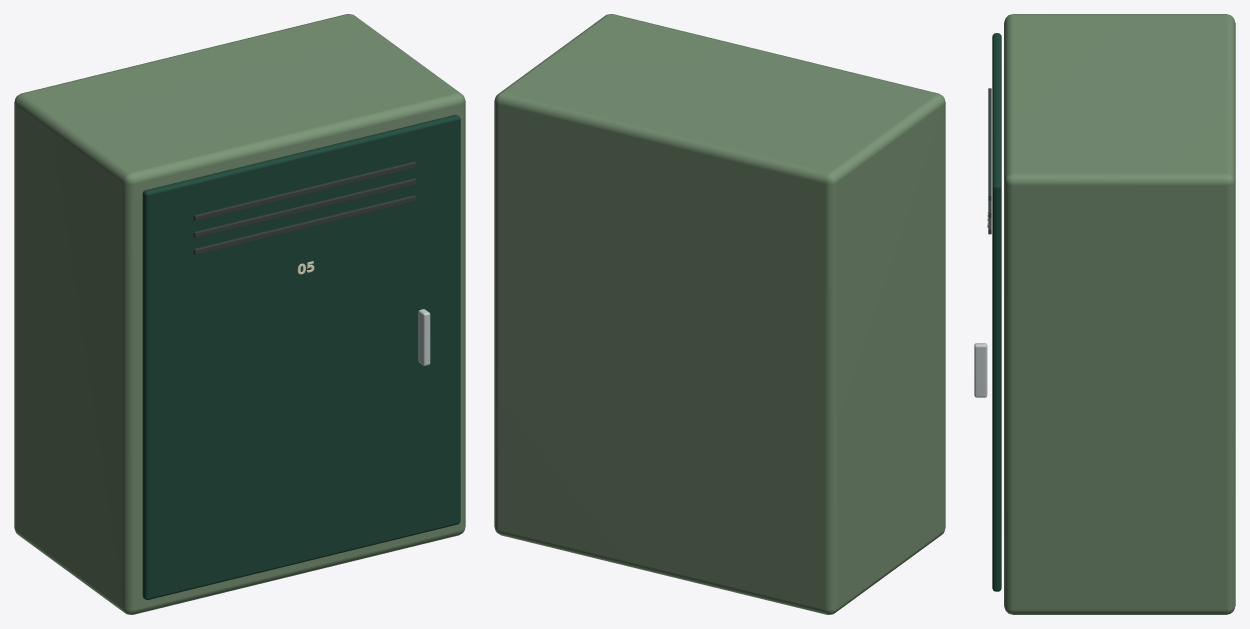
The model's file is SM_EG_StaffLocker_05_e54f4b7fa2.fbx.
3 renders of one model, left to right at view 1: azimuth 30°, elevation 25°; view 2: azimuth 150°, elevation 25°; view 3: azimuth 270°, elevation 25°, orthographic.
Visible parts, largest first — view 1: SM_EG_StaffLocker_05_e54f4b7fa2; view 2: SM_EG_StaffLocker_05_e54f4b7fa2; view 3: SM_EG_StaffLocker_05_e54f4b7fa2.
Boxes of the visible parts, box(x1,y1,x2,y2) form: SM_EG_StaffLocker_05_e54f4b7fa2: box(14, 14, 465, 614); SM_EG_StaffLocker_05_e54f4b7fa2: box(494, 14, 945, 614); SM_EG_StaffLocker_05_e54f4b7fa2: box(974, 14, 1235, 614).
Size of what is drawn, in the model's own units: 170 by 113 by 210.
